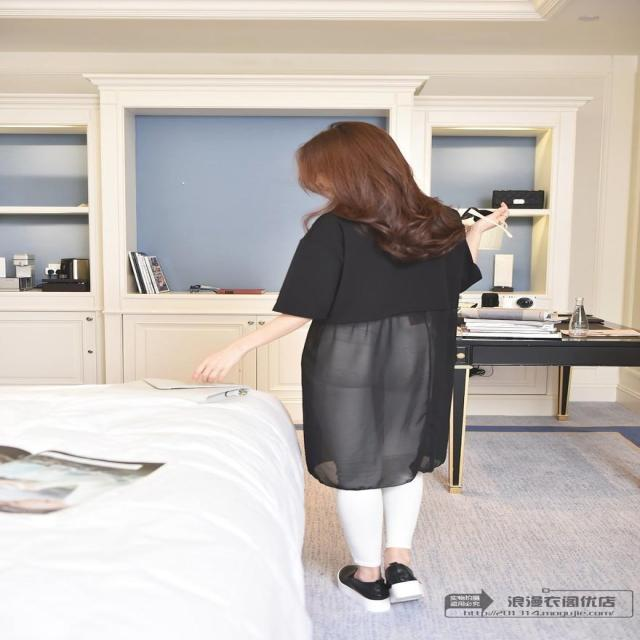short-sleeve-top: (288, 213, 556, 493)
